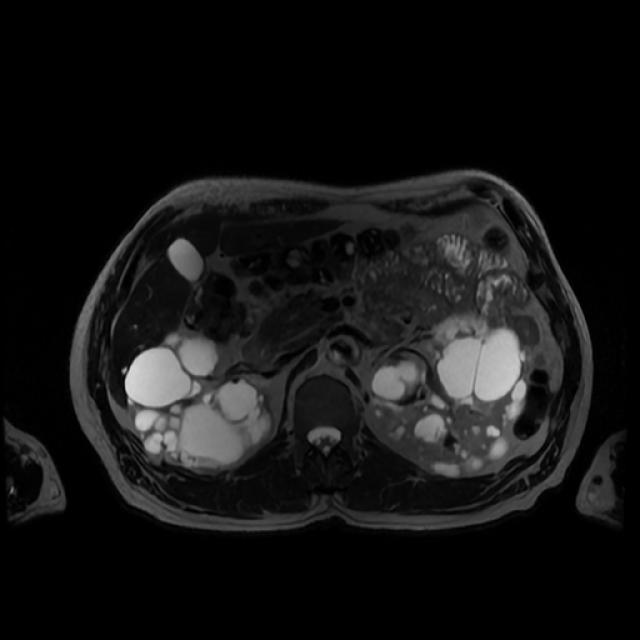sag: (126, 336, 273, 467)
sol: (371, 329, 525, 475)
